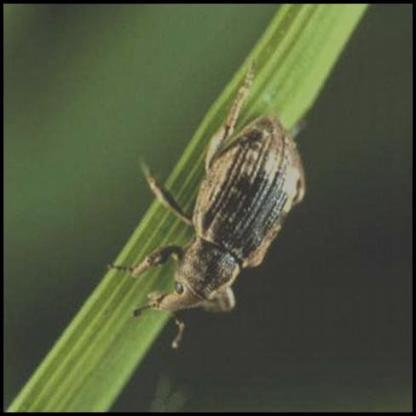rice-bug: (126, 87, 310, 325)
